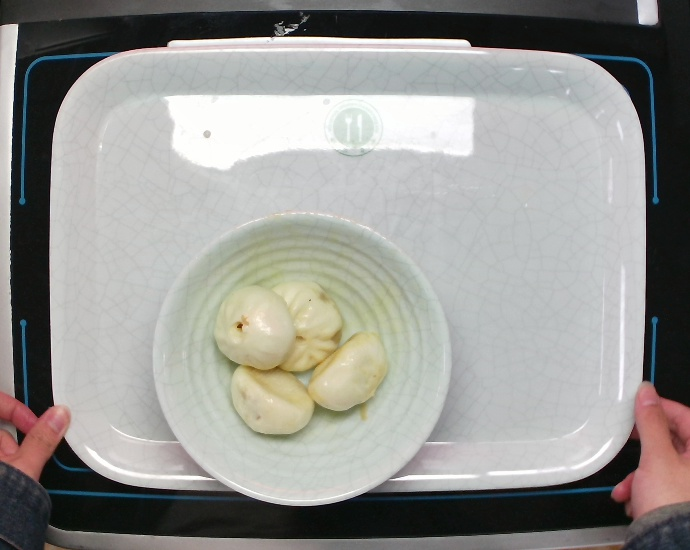JYsf-Xiao_Tang_Wan: (146, 199, 461, 511)
